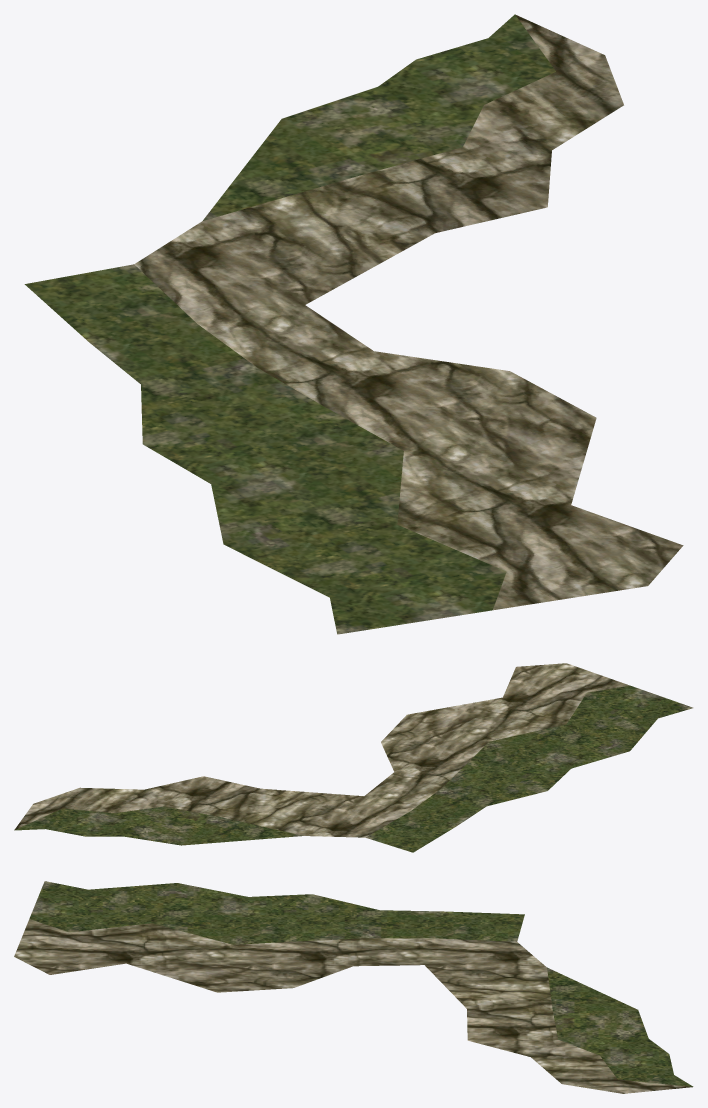
File: CB_NEWPLAYSURFACE_CB_PLAYSURFACE69.fbx
The picture shows the model from 3 angles, top to bottom: view 1: azimuth 30°, elevation 25°; view 2: azimuth 150°, elevation 25°; view 3: azimuth 270°, elevation 25°; orthographic projection. The views are drawn at different scales.
Visible parts, largest first — view 1: CB_NEWPLAYSURFACE_CB_PLAYSURFACE69; view 2: CB_NEWPLAYSURFACE_CB_PLAYSURFACE69; view 3: CB_NEWPLAYSURFACE_CB_PLAYSURFACE69.
Part boxes in pixels (bbox=[...]): CB_NEWPLAYSURFACE_CB_PLAYSURFACE69: bbox=[24, 14, 683, 634]; CB_NEWPLAYSURFACE_CB_PLAYSURFACE69: bbox=[14, 663, 693, 852]; CB_NEWPLAYSURFACE_CB_PLAYSURFACE69: bbox=[14, 881, 693, 1093].
Bounding box in the file's own units: 215836 × 602 × 291285.
Materials: 2 (2 with a texture image).
